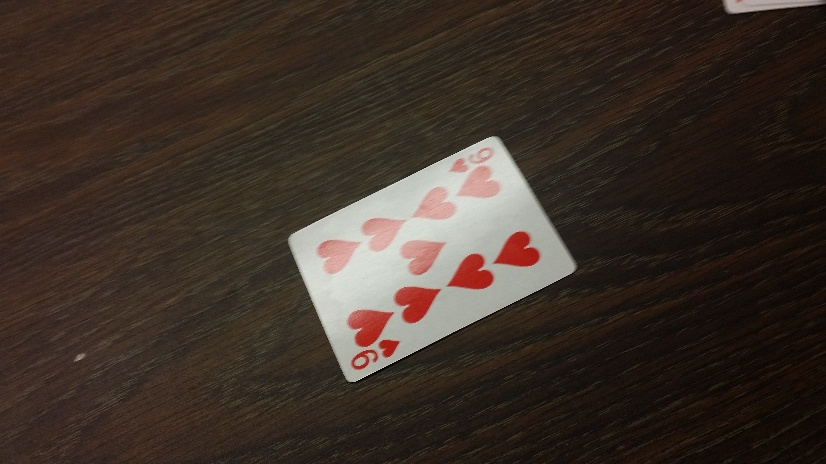H9: (341, 340, 403, 370), (450, 149, 497, 174)
